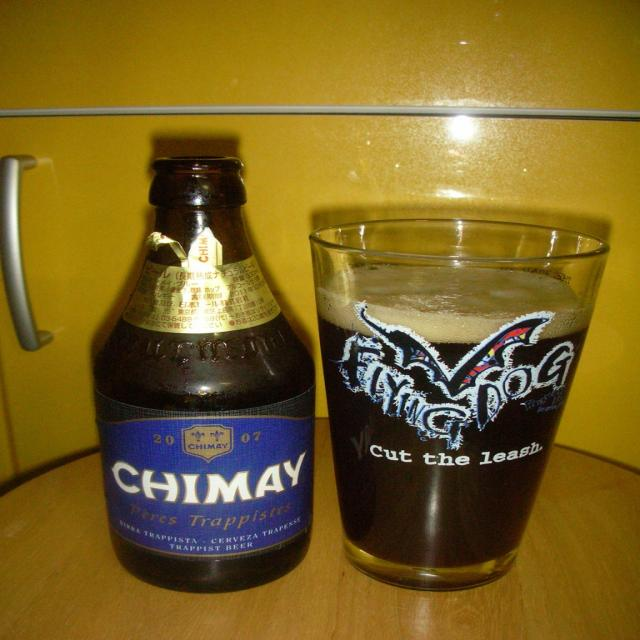chimay: (95, 415, 318, 560)
